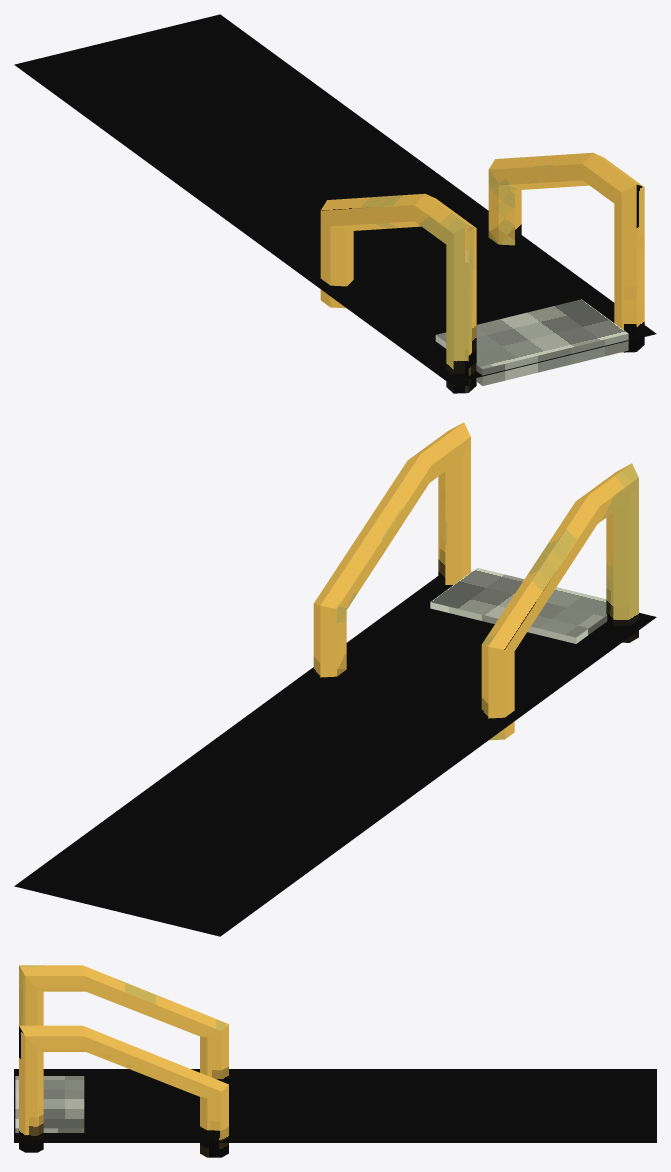
Rendered from engine ladder.glb.
3 renders of one model, top to bottom at view 1: azimuth 30°, elevation 25°; view 2: azimuth 150°, elevation 25°; view 3: azimuth 270°, elevation 25°, orthographic. The views are drawn at different scales.
Visible parts, largest first — view 1: Engine Ladder; view 2: Engine Ladder; view 3: Engine Ladder.
Part boxes in pixels (x1,y1,x2,y2): Engine Ladder: (14, 14, 656, 393); Engine Ladder: (14, 422, 656, 936); Engine Ladder: (14, 965, 656, 1157).
Size of the model in its own units: 1.01 by 0.8059 by 3.69.
Materials: 1 (1 with a texture image).
